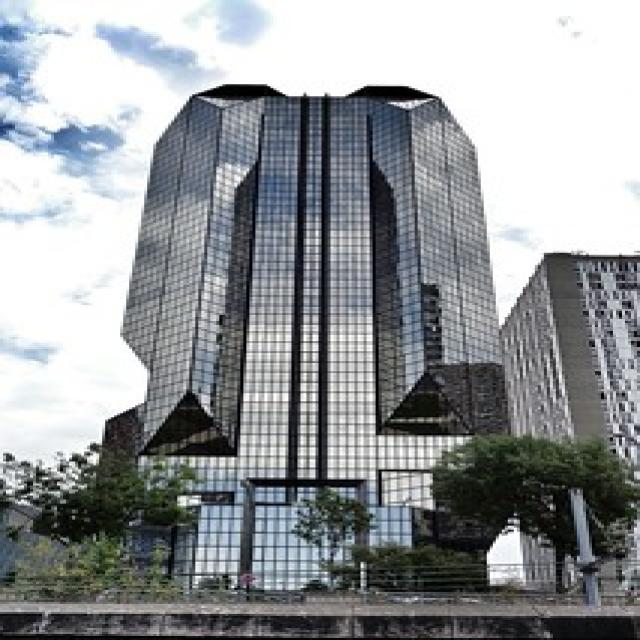Normal_building: (80, 73, 527, 599)
